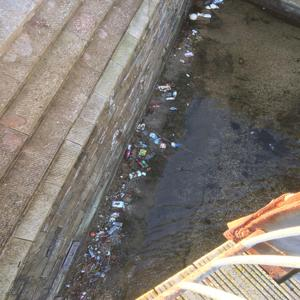plastic: (188, 6, 216, 30), (107, 210, 129, 235), (157, 79, 181, 101), (89, 244, 110, 269), (181, 39, 199, 60), (146, 95, 162, 117), (91, 226, 110, 244), (148, 130, 163, 149), (170, 137, 190, 151), (126, 169, 149, 181), (108, 200, 132, 210), (184, 66, 198, 83), (132, 119, 147, 134), (168, 102, 182, 118), (125, 142, 136, 162), (118, 186, 134, 199), (138, 145, 151, 159)
